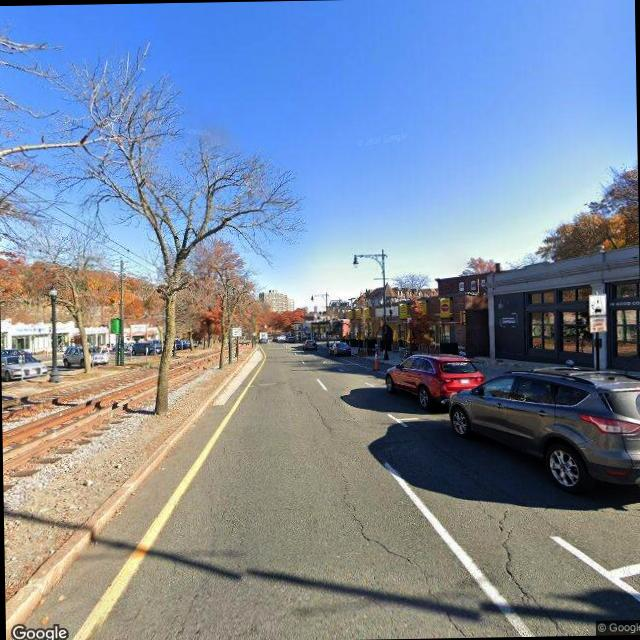crack: (336, 472, 482, 638), (474, 488, 566, 628), (294, 384, 335, 438)
